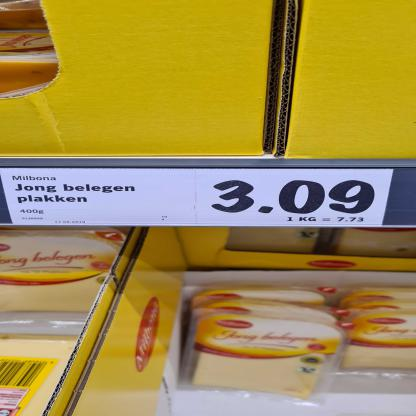prtg: (1, 169, 395, 228)
